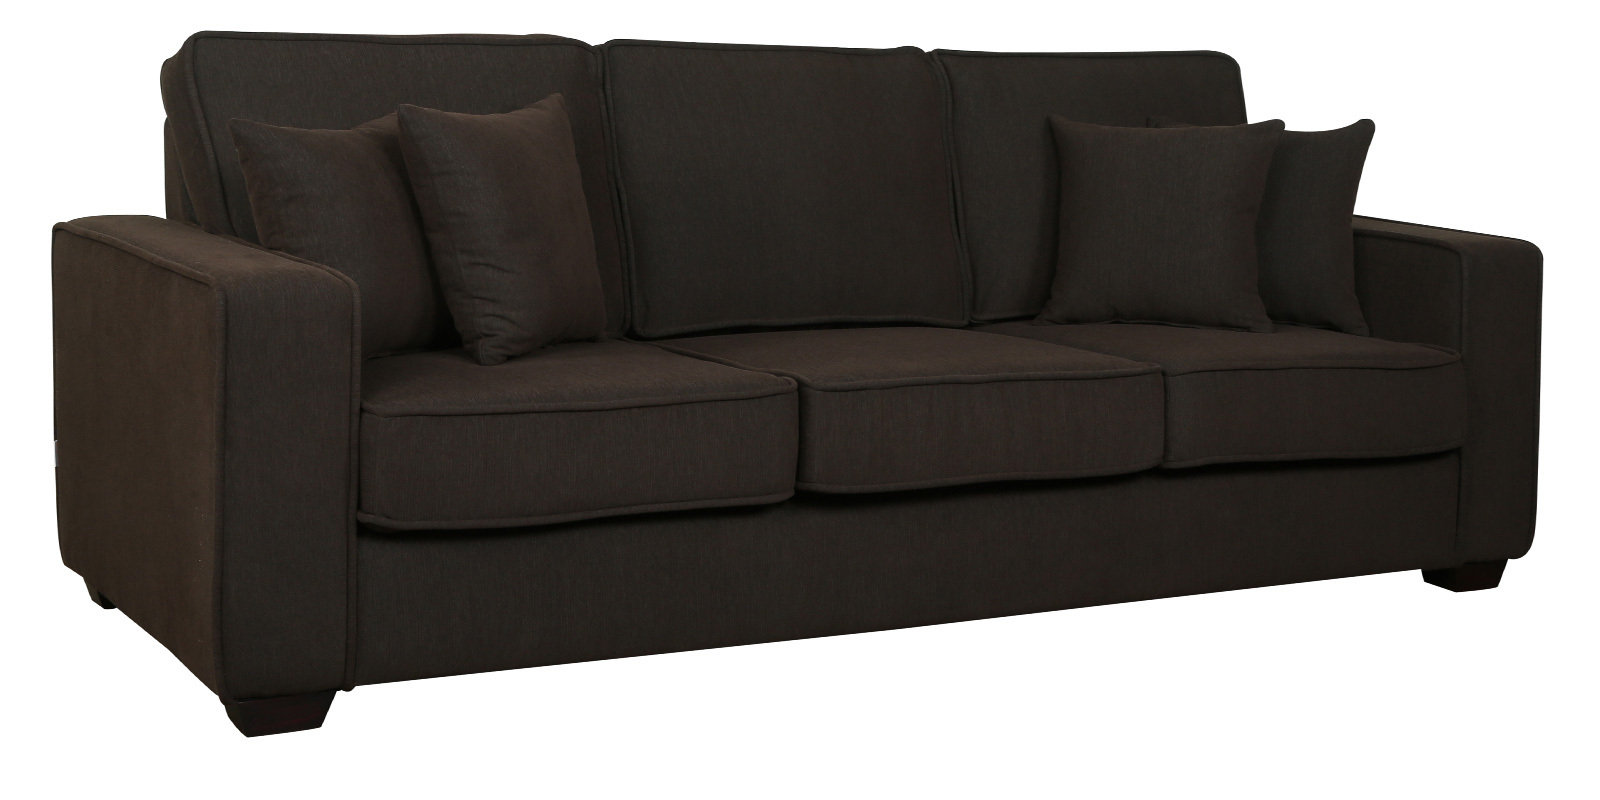Hugo Three Seater Sofa in Chestnut Brown Colour by CasaCraft: (24, 10, 1599, 753)
